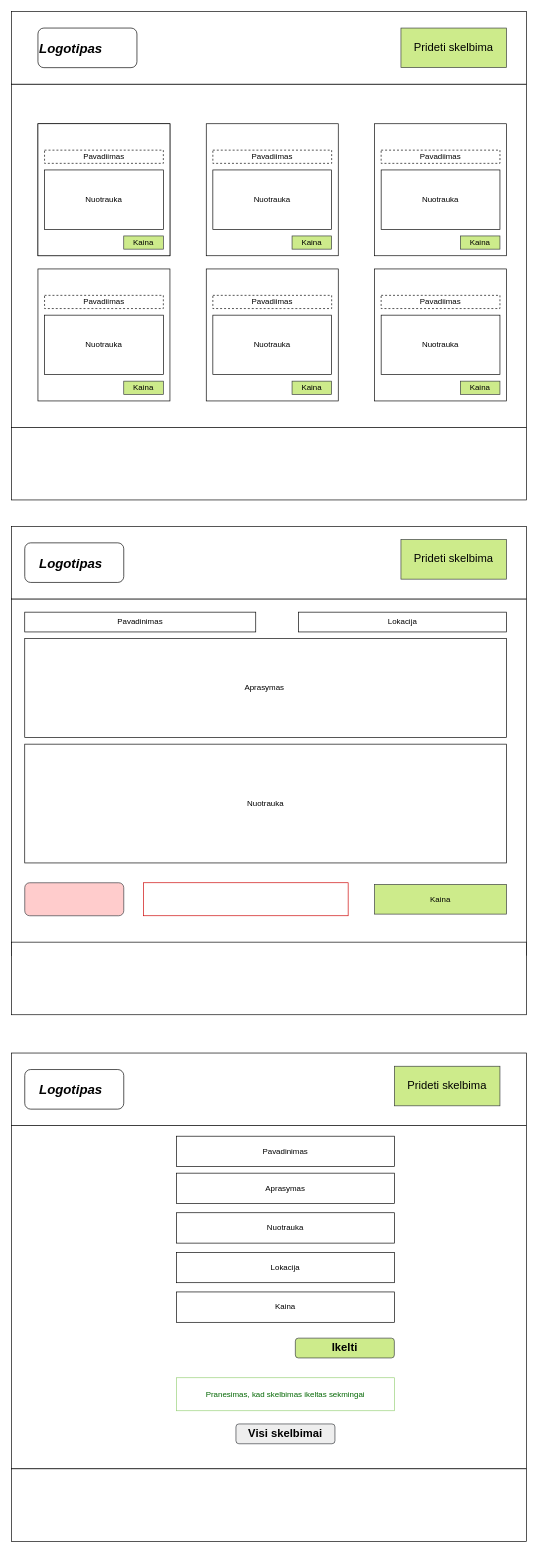
Image size: 538x1553. Some labels were removed from this diagram. Here are the shapes that lost their labels. From the top down, the centre of each, then its label:
At (74,899): "Istrinti skelbima".
At (245,899): "Pranesimas, kad skelbimas sekmingai pasalintas".
